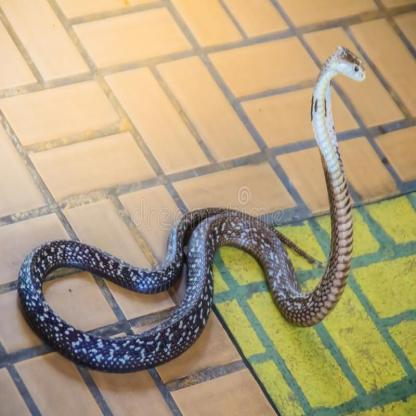Snake: (15, 43, 369, 371)
